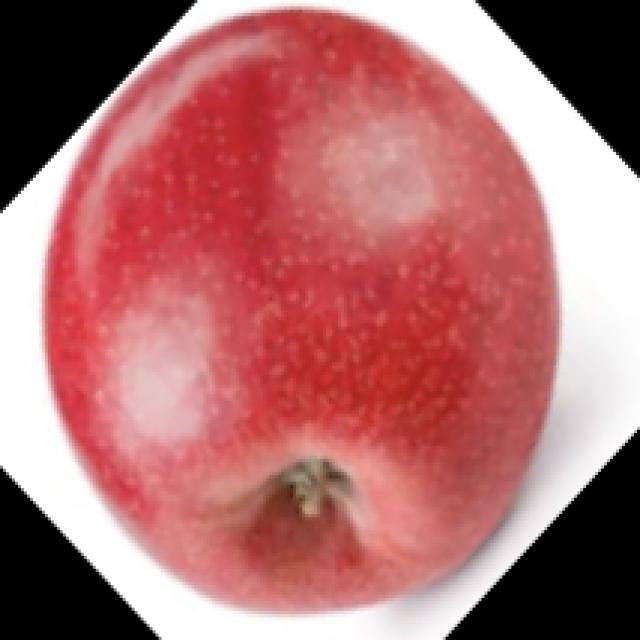Fresh Apple: (41, 10, 592, 607)
